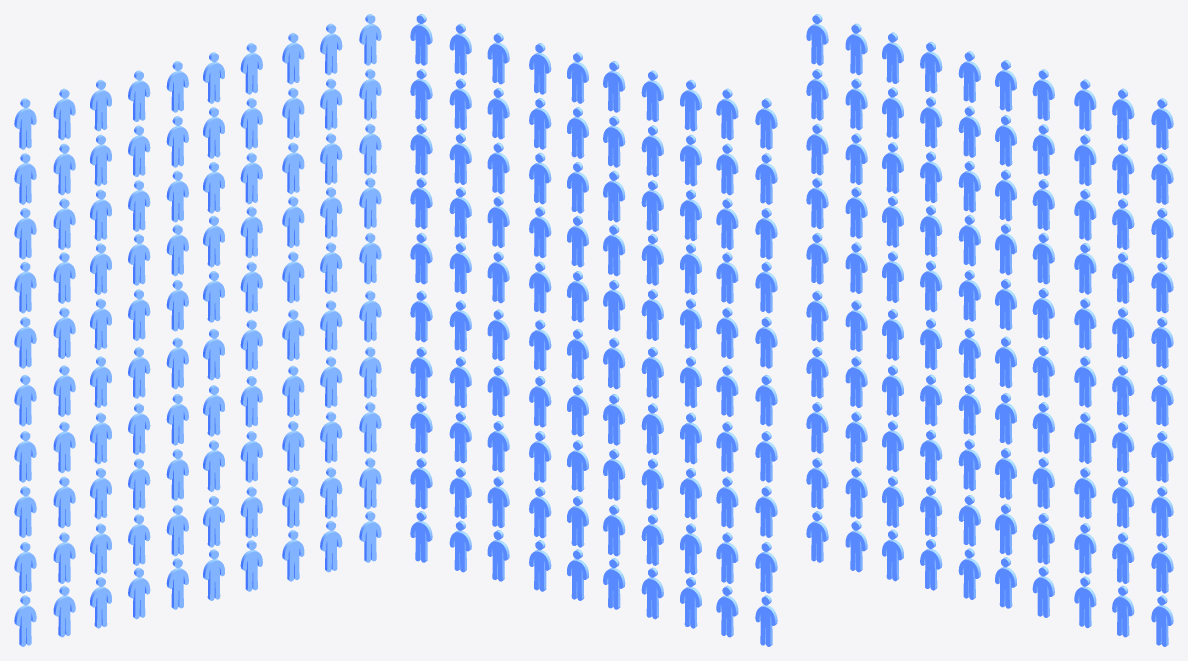
Rendered from man_graph.gltf.
The picture shows the model from 3 angles, left to right: view 1: azimuth 30°, elevation 25°; view 2: azimuth 150°, elevation 25°; view 3: azimuth 330°, elevation 25°; orthographic projection.
Visible parts, largest first — view 1: Group_6, Group_0, Group_4, Group_5, Group_7, Group_1, Group_2, Group_3, Group_8, Group_9; view 2: Group_6, Group_0, Group_4, Group_5, Group_7, Group_1, Group_2, Group_3, Group_8, Group_9; view 3: Group_6, Group_4, Group_8, Group_9, Group_2, Group_0, Group_3, Group_1, Group_5, Group_7.
Part boxes in pixels (<box>): Group_6: <box>14,177,381,313</box>; Group_0: <box>14,511,381,646</box>; Group_4: <box>14,290,381,426</box>; Group_5: <box>14,232,381,368</box>; Group_7: <box>14,123,381,259</box>; Group_1: <box>14,457,381,593</box>; Group_2: <box>14,402,381,537</box>; Group_3: <box>14,347,381,482</box>; Group_8: <box>14,69,381,204</box>; Group_9: <box>14,14,381,149</box>; Group_6: <box>410,177,777,313</box>; Group_0: <box>410,511,777,646</box>; Group_4: <box>410,290,777,426</box>; Group_5: <box>410,232,777,368</box>; Group_7: <box>410,123,777,259</box>; Group_1: <box>410,457,777,593</box>; Group_2: <box>410,402,777,537</box>; Group_3: <box>410,347,777,482</box>; Group_8: <box>410,69,777,204</box>; Group_9: <box>410,14,777,149</box>; Group_6: <box>806,177,1173,313</box>; Group_4: <box>806,290,1173,426</box>; Group_8: <box>806,69,1173,204</box>; Group_9: <box>806,14,1173,149</box>; Group_2: <box>806,402,1173,537</box>; Group_0: <box>806,511,1173,646</box>; Group_3: <box>806,347,1173,482</box>; Group_1: <box>806,457,1173,593</box>; Group_5: <box>806,232,1173,368</box>; Group_7: <box>806,123,1173,259</box>.
Bounding box in the file's own units: 9.47 × 13.55 × 0.1.
